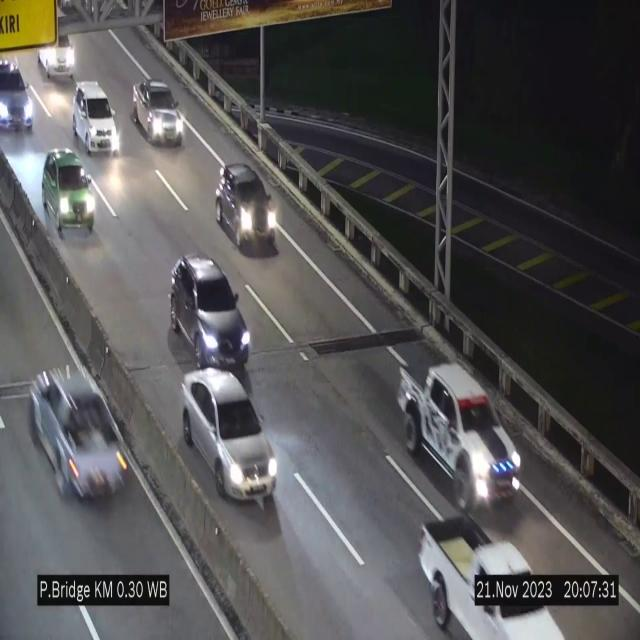Car: (395, 352, 523, 510), (180, 368, 278, 499), (170, 255, 250, 368), (217, 161, 280, 257), (42, 148, 96, 238), (72, 82, 120, 154), (132, 78, 183, 144), (0, 52, 33, 136)
